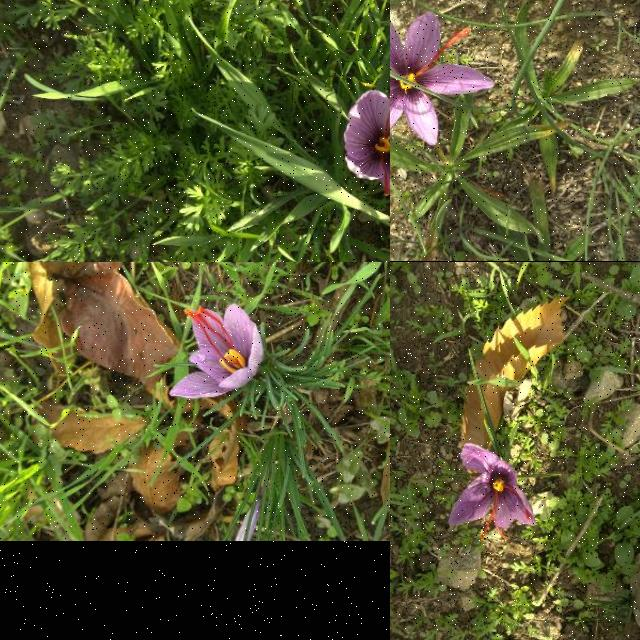flower: (390, 0, 494, 152), (170, 303, 264, 399), (450, 444, 540, 542), (344, 91, 390, 197)
